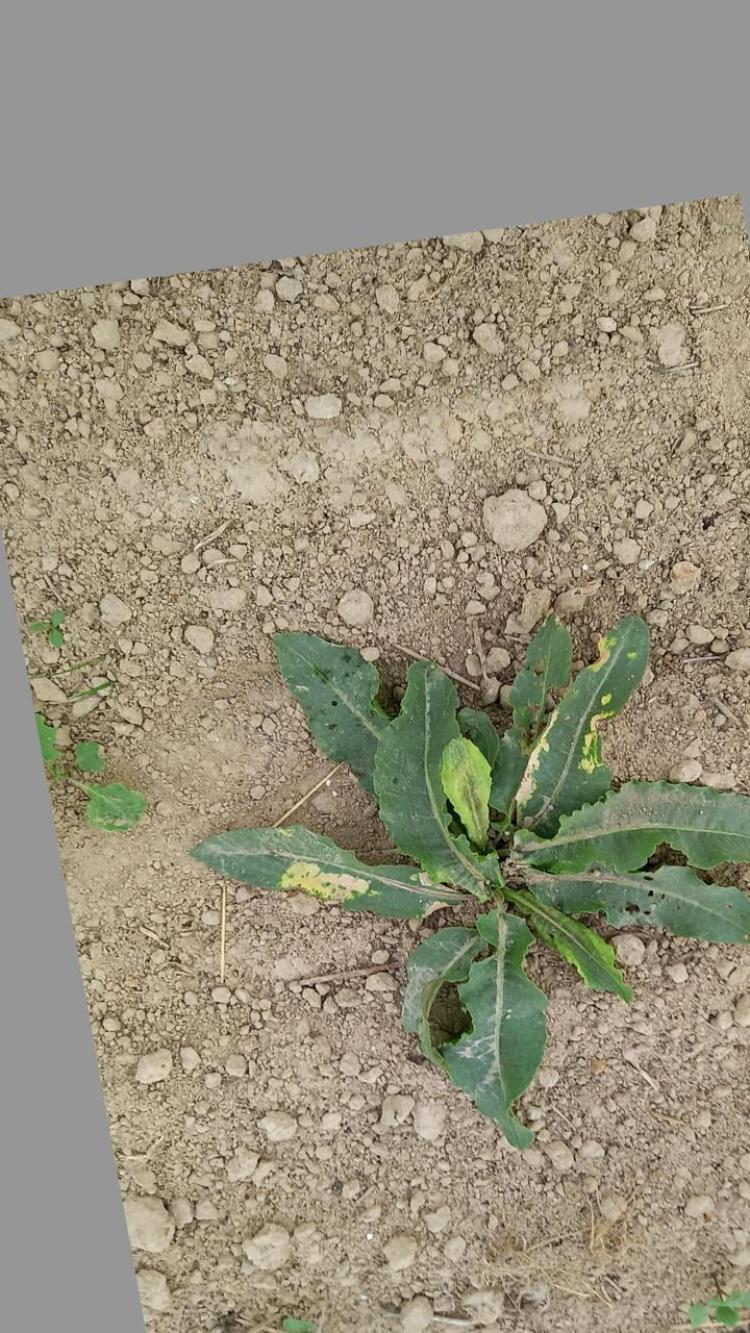zhavel: (189, 604, 750, 1154)
